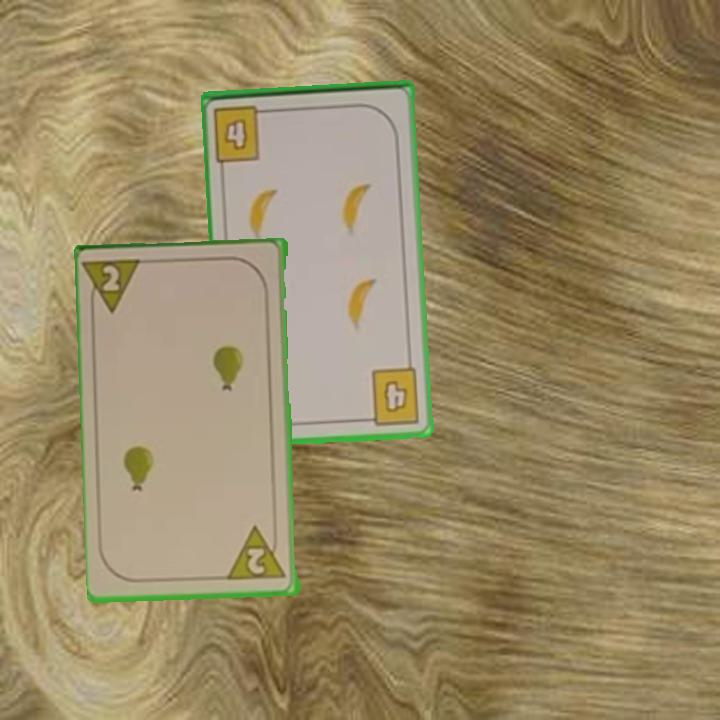2p: (83, 256, 148, 318), (226, 523, 290, 584)
4b: (210, 101, 276, 164), (360, 364, 423, 428)
